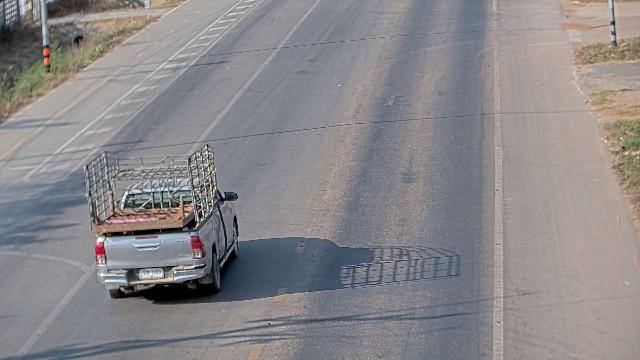pickup-truck: (82, 143, 240, 299)
